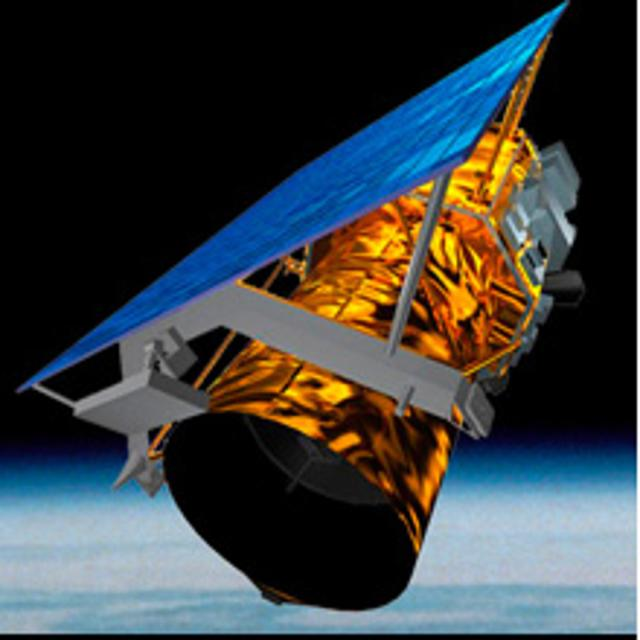satellite: (31, 0, 599, 621)
